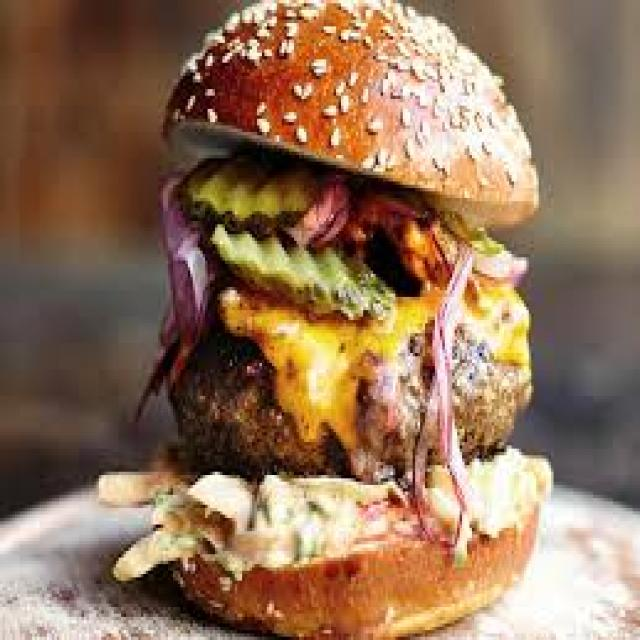Wet Waste: (150, 0, 550, 640)
